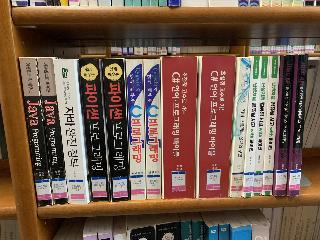book-spine: (195, 54, 235, 201), (161, 56, 197, 200), (19, 56, 53, 207), (37, 56, 70, 205), (54, 58, 87, 205), (78, 58, 110, 203), (102, 58, 131, 202), (229, 56, 251, 198), (126, 59, 147, 200), (288, 54, 308, 197), (275, 54, 294, 197), (244, 55, 261, 198), (253, 56, 270, 197), (263, 55, 280, 196), (144, 59, 161, 199)
